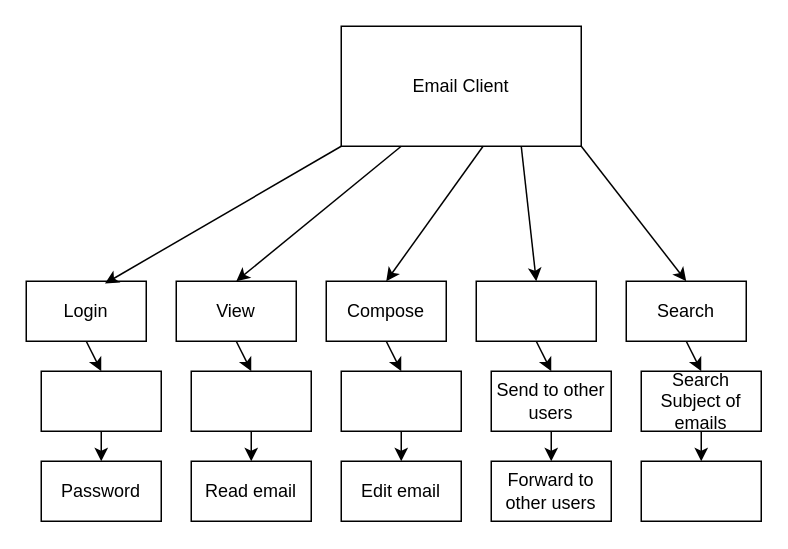
The diagram is 788 pixels wide and 549 high, and some of its shapes have lost their labels. Each missing label, with the box of its shape:
Click on email: (190, 370, 311, 431)
Search keywords of emails: (640, 460, 761, 521)
Send/Forward: (475, 280, 596, 341)
Username: (40, 370, 161, 431)
Write email: (340, 370, 461, 431)
